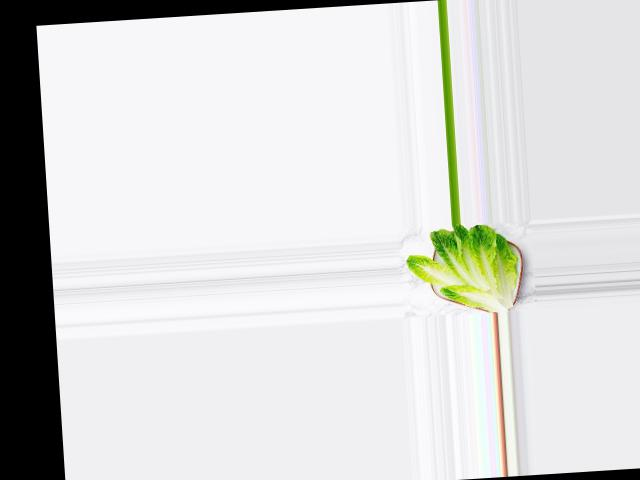lettuce: (402, 219, 527, 315)
